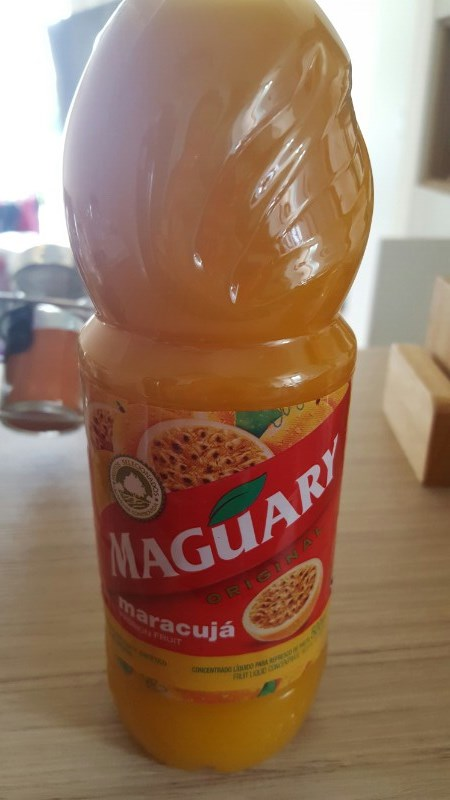maguary: (59, 1, 379, 783)
